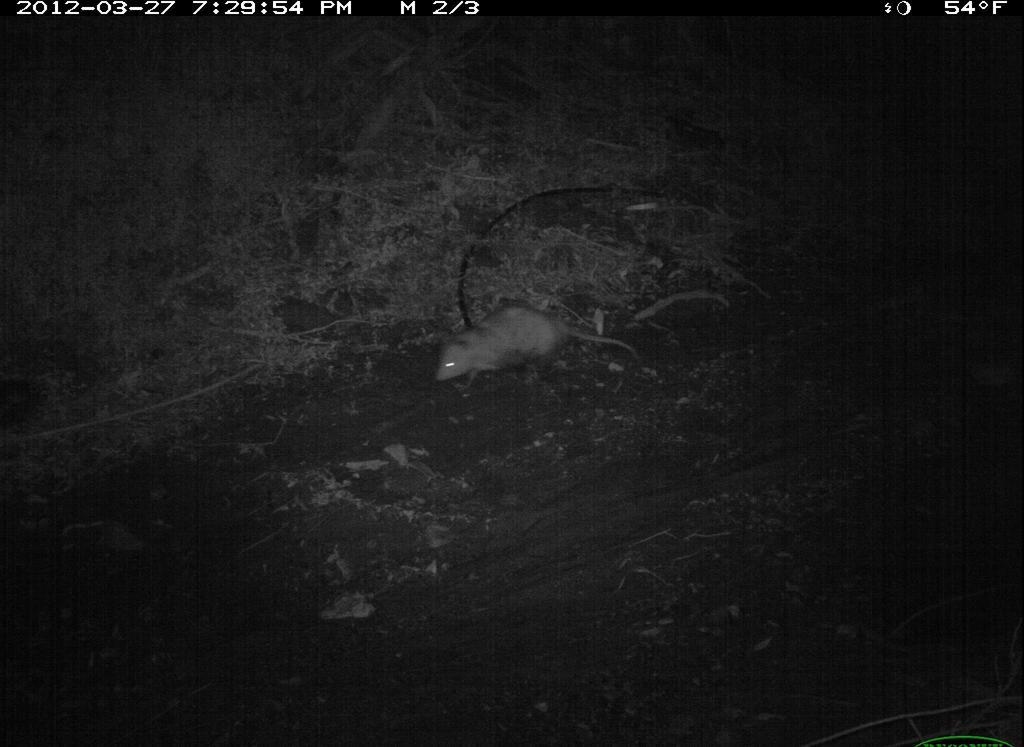opossum: (434, 291, 641, 388)
